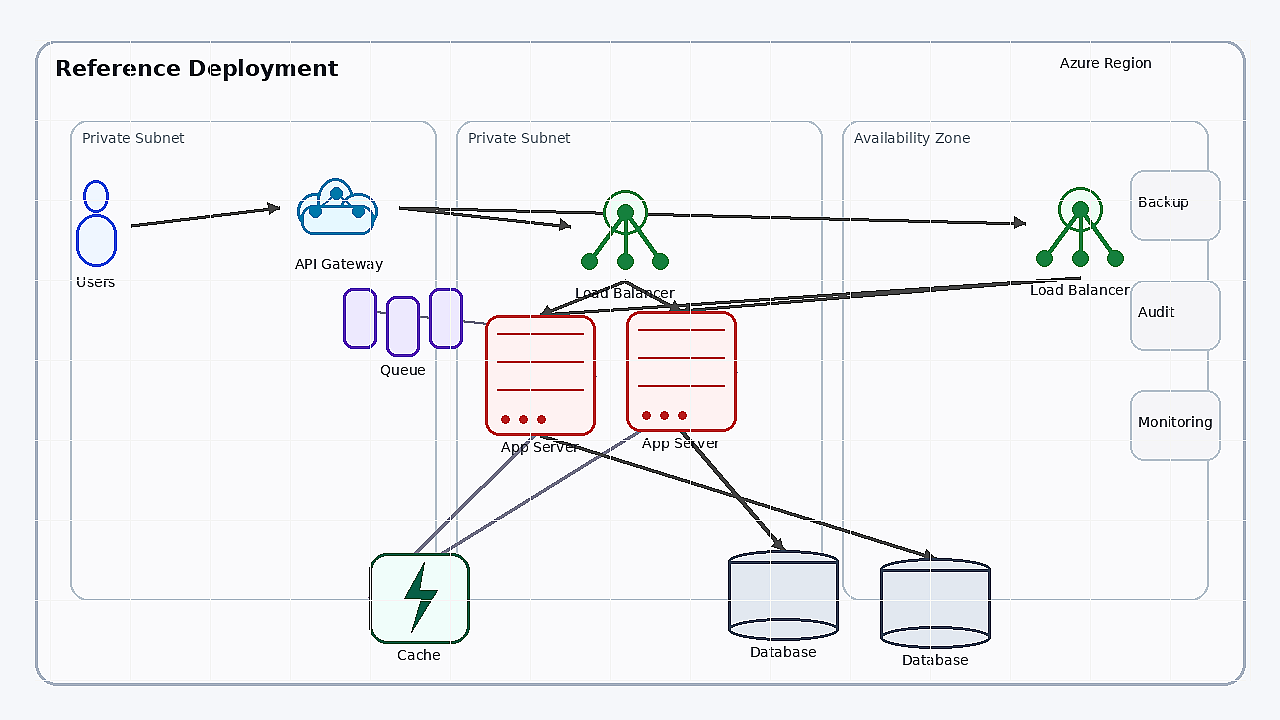API Gateway: (279, 162, 399, 252)
Application Server: (626, 311, 736, 431), (485, 315, 595, 435)
Cache: (369, 553, 469, 643)
Database: (728, 550, 838, 640), (880, 558, 990, 648)
Load Balancer: (1025, 168, 1135, 278), (570, 171, 680, 281)
Message Queue: (343, 288, 463, 358)
User: (61, 180, 131, 270)
